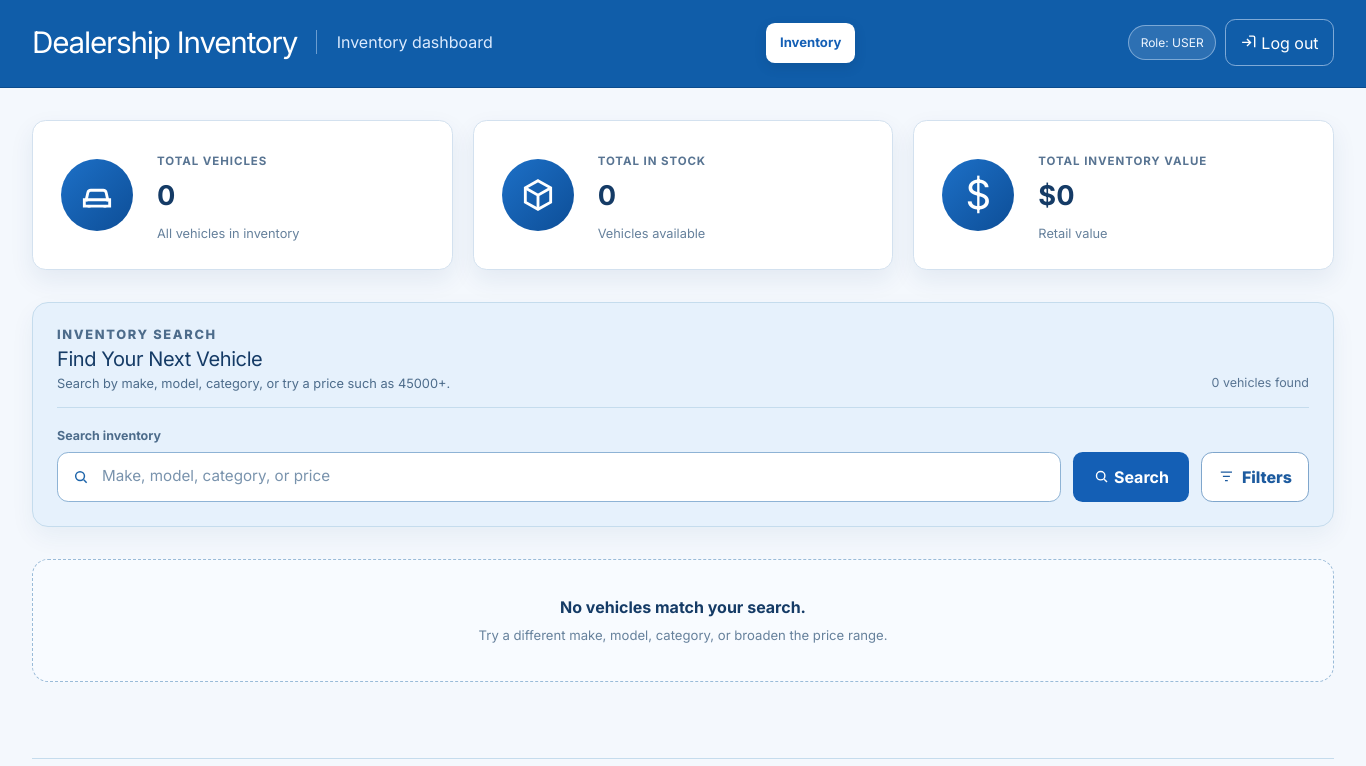
Test case: App › shows the complete vehicle filter set and an empty-state message
The image size is (1366, 766).
Click the button "Filters": (1255, 477) [1201, 452, 1309, 502]
(page scrolled)
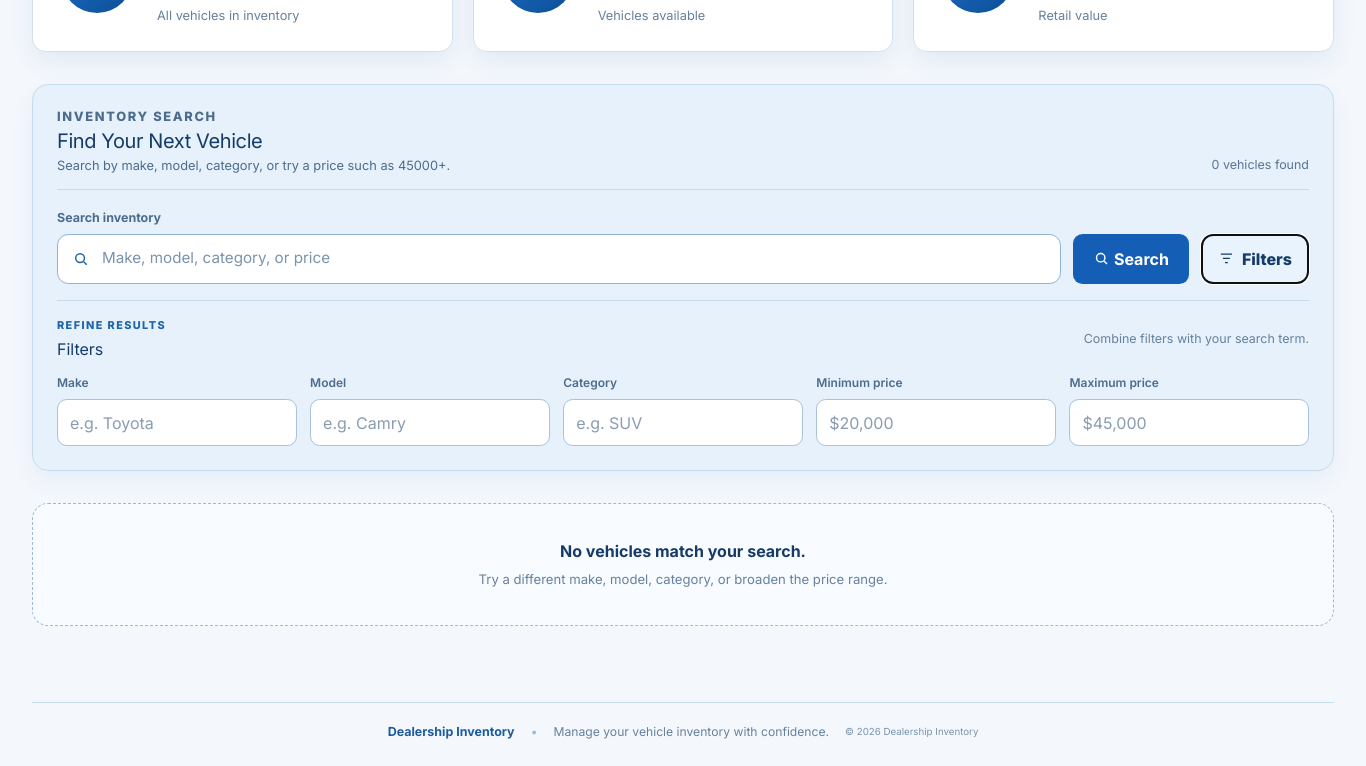
Result: the field labelled "Model" is shown at [310, 399, 550, 446]
Result: the field labelled "Category" is shown at [563, 399, 803, 446]
Result: the number field labelled "Maximum price" is shown at [1070, 399, 1309, 446]
